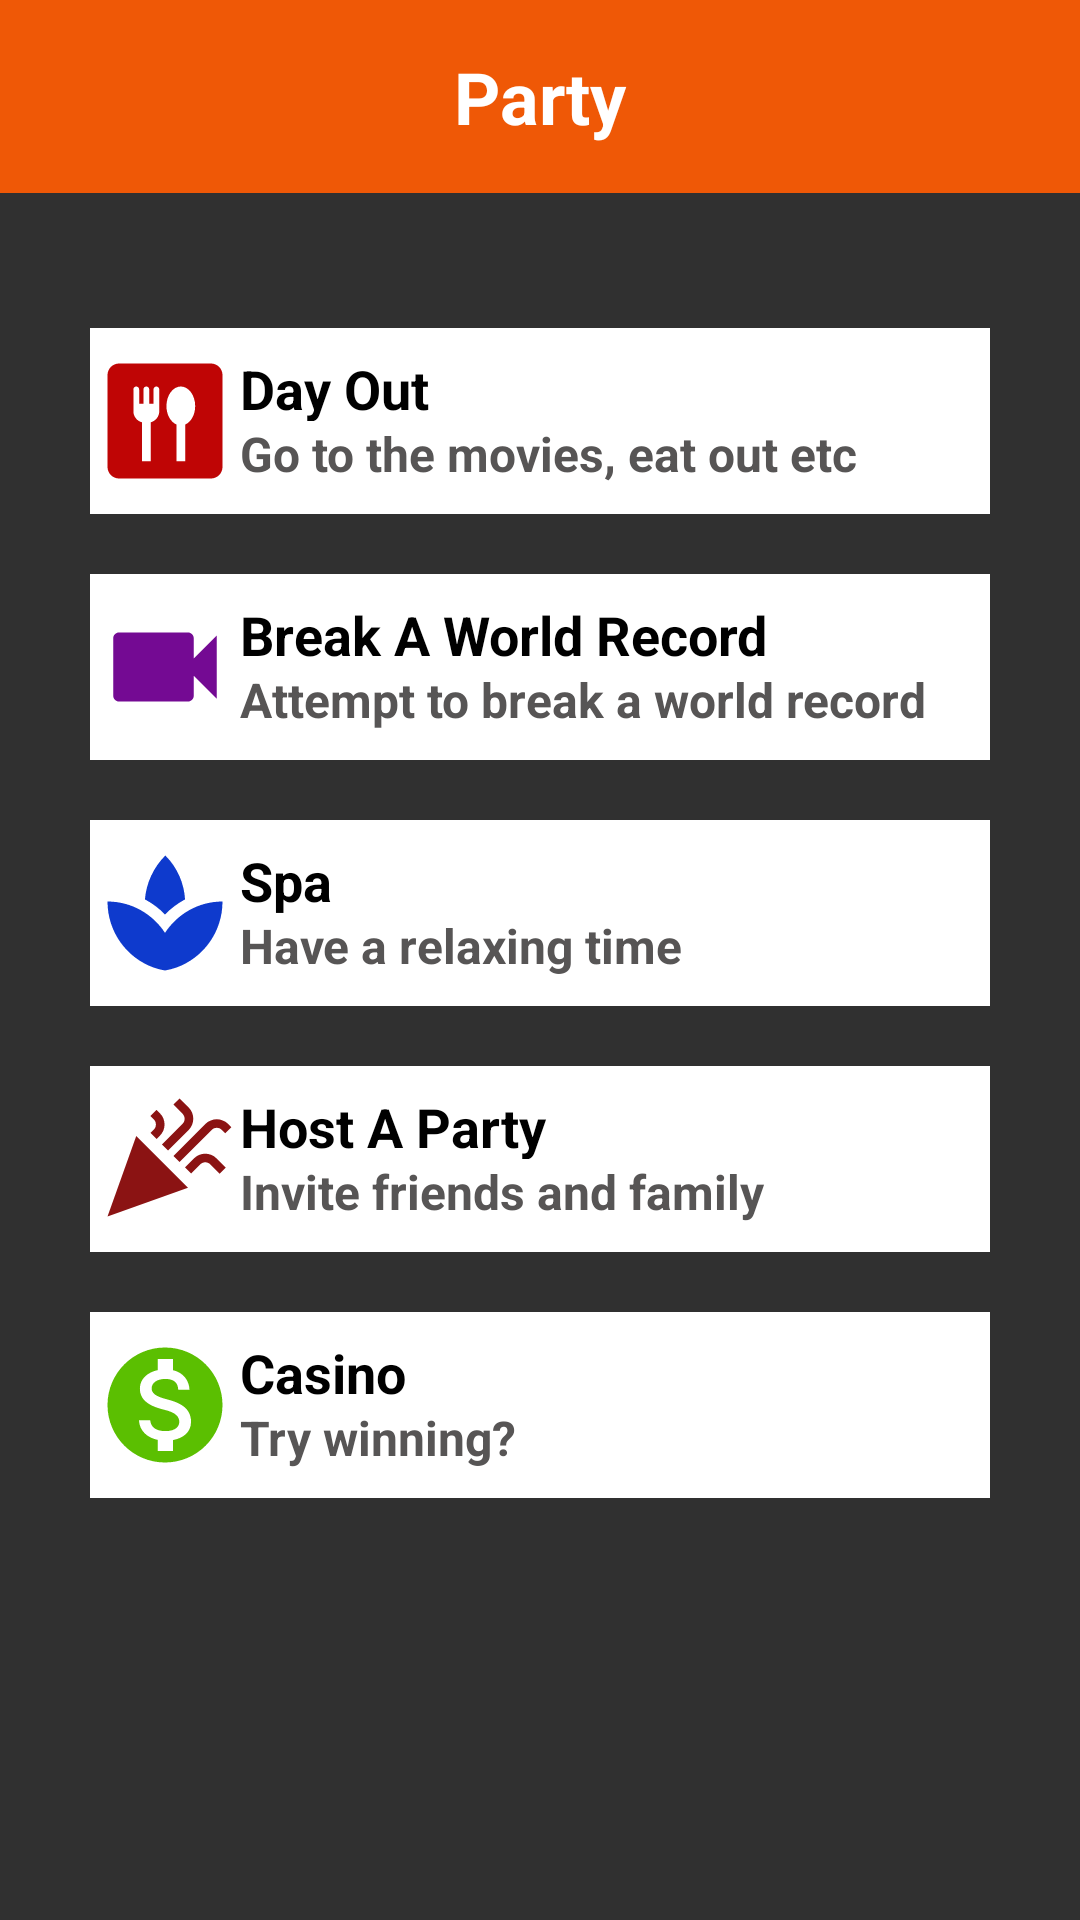

Icons on this 1080w x 1920h Android screen, each with the point to tap as point (x, y):
dining: point (165, 421)
money: point (165, 1405)
